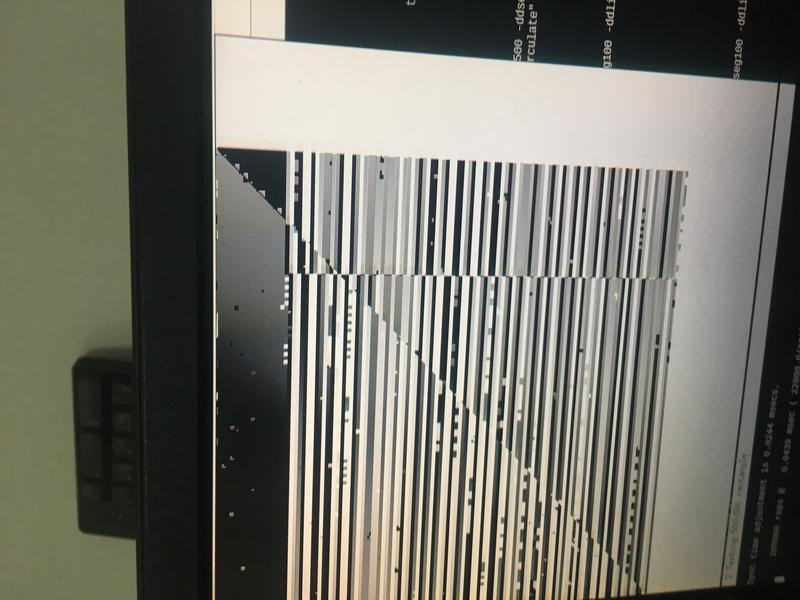xrandr_pass: (188, 9, 800, 598)
